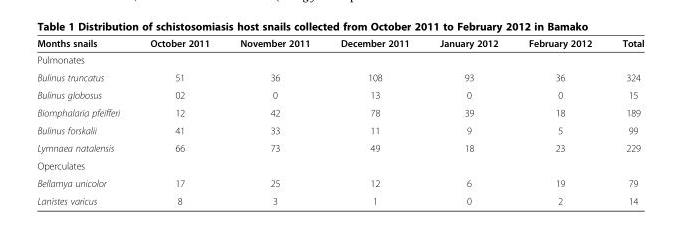table: (36, 37, 643, 206)
table column: (224, 37, 324, 206), (324, 37, 424, 206), (36, 37, 134, 206), (512, 37, 606, 206), (134, 37, 224, 206), (424, 37, 512, 206), (606, 37, 643, 206)
table column header: (36, 37, 643, 51)
table projected row header: (36, 156, 643, 174), (36, 51, 643, 68)
table row: (36, 85, 643, 103), (36, 103, 643, 121), (36, 138, 643, 156), (36, 156, 643, 174), (36, 51, 643, 68), (36, 68, 643, 85), (36, 121, 643, 138), (36, 174, 643, 191), (36, 191, 643, 206), (36, 37, 643, 51)
